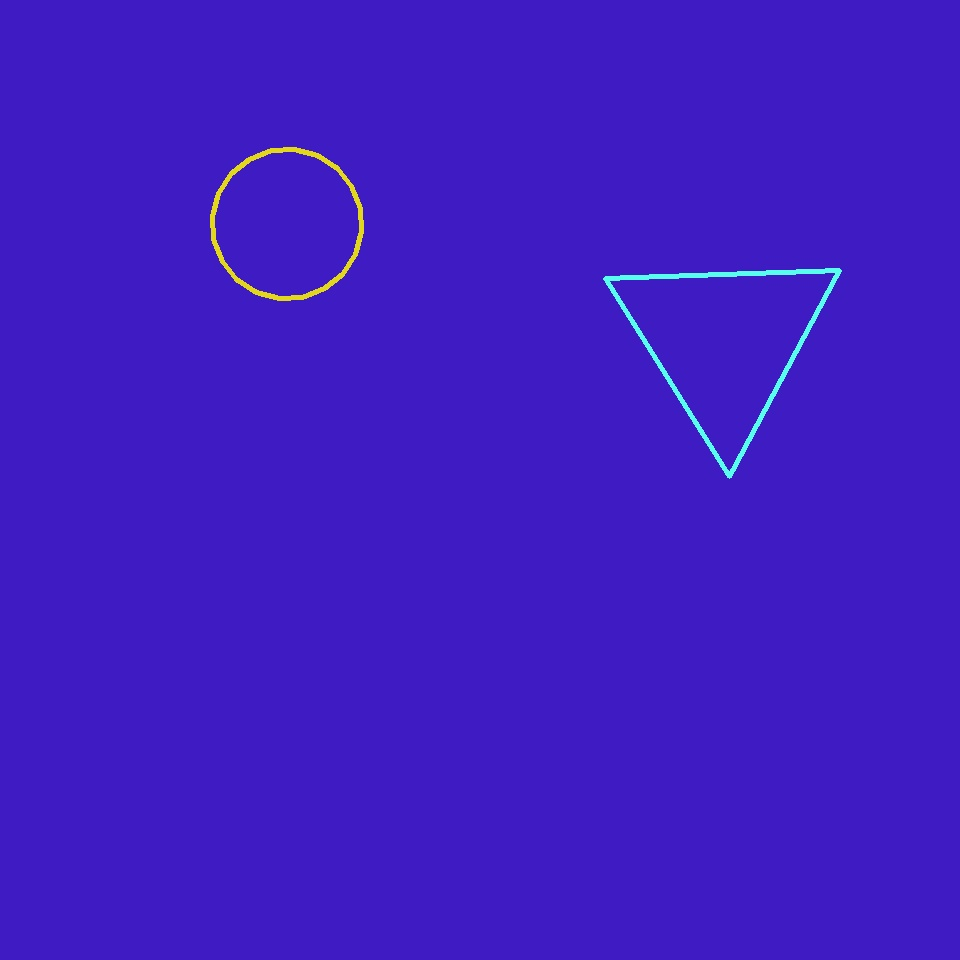circle: (608, 239, 842, 445)
triangle: (212, 150, 362, 298)
